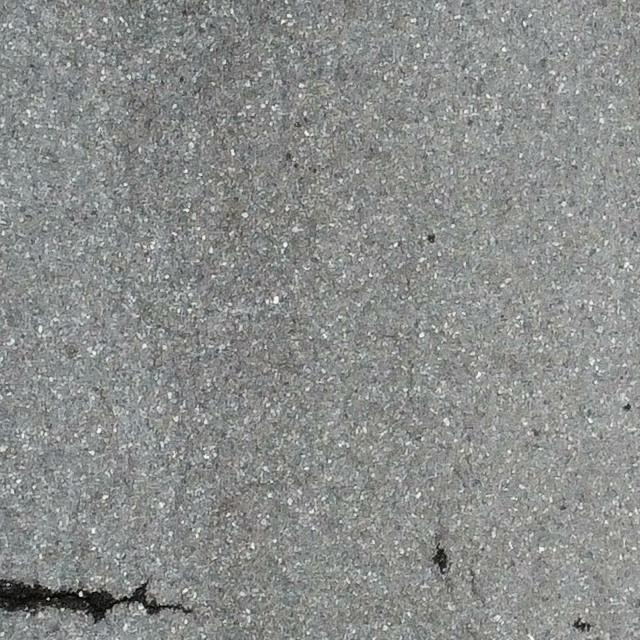TransverseCrack: (1, 574, 193, 624)
